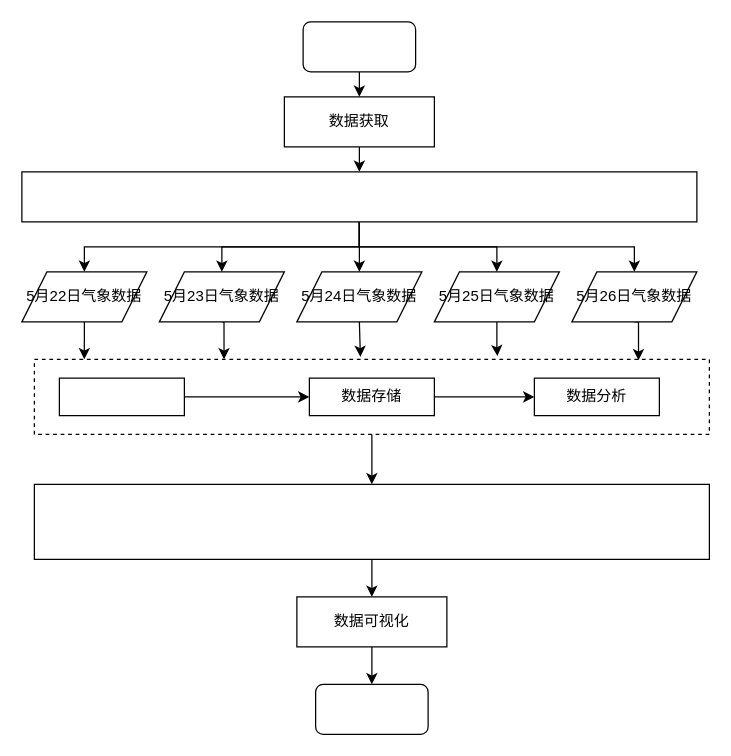
Image size: 731x756. Some labels were removed from this diagram. Here are the shapes that lost their labels. From the top down, the box of each, then its label:
(302, 21, 416, 72): 开始
(21, 171, 697, 222): Apache Spark平台
(58, 377, 184, 416): 数据处理
(33, 483, 709, 559): Jupyter Notebook平台
(314, 683, 428, 734): 结束
